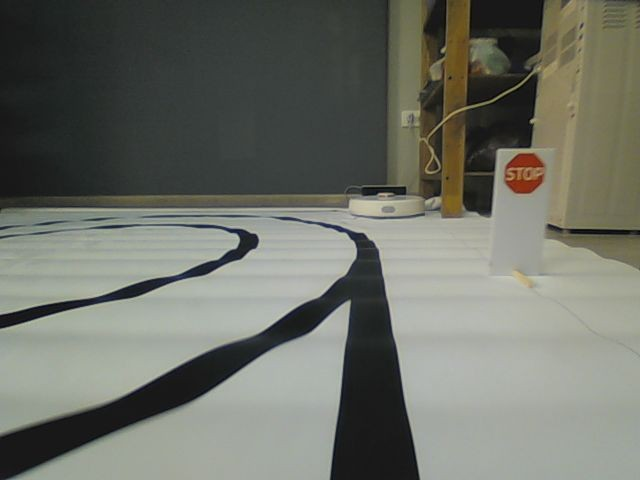Stop: (503, 153, 547, 195)
